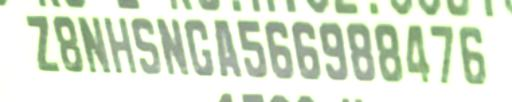letter: (48, 13, 84, 71), (102, 15, 138, 73), (77, 15, 111, 74), (156, 16, 190, 75), (24, 14, 58, 72), (128, 15, 162, 73), (260, 19, 294, 77), (182, 18, 214, 76), (372, 21, 404, 79), (456, 25, 488, 83), (290, 21, 322, 77), (234, 19, 266, 74), (211, 18, 241, 76), (318, 21, 348, 79), (345, 21, 375, 79), (403, 23, 431, 81), (428, 24, 456, 82)
